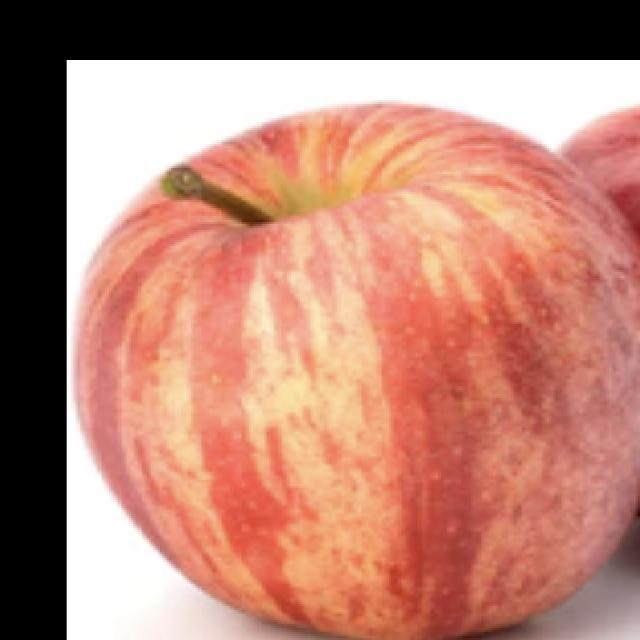Fresh Apple: (108, 109, 640, 626)
